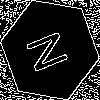N: (25, 25, 78, 76)
